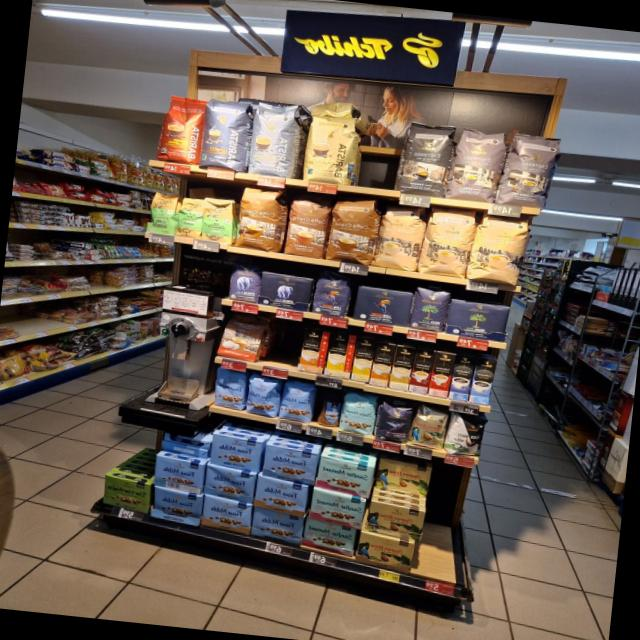AB Bohne: (226, 260, 261, 304)
AB Gemahlen: (258, 270, 314, 312), (196, 194, 237, 247)
Athiopien Bohne: (144, 191, 179, 236)
BM Bohne: (408, 285, 451, 334)
BM Gemahlen: (444, 297, 511, 342)
BW Bohne: (443, 412, 489, 460)
Barista CB: (299, 112, 357, 186)
Barista CC: (243, 102, 306, 178)
Barista Espresso: (196, 98, 251, 171)
Barista Kolumbien: (153, 94, 206, 165)
C Fino Bohne: (371, 401, 415, 444)
CC Mild: (464, 212, 533, 286), (415, 206, 475, 278), (371, 205, 427, 274)
CC Vollmundig: (215, 311, 267, 363)
CC Vollmundig 36 Pads: (323, 195, 380, 265), (233, 185, 288, 254), (280, 191, 331, 260)
Colombia BB Bohne: (407, 405, 450, 451)
Colombia BB Gemahlen: (365, 500, 427, 542), (355, 530, 414, 574), (374, 457, 431, 498)
Empty Shelf: (347, 115, 406, 189), (259, 318, 302, 370), (103, 441, 154, 483)
Espresso Aromatisch: (492, 130, 563, 208), (442, 125, 507, 204)
Espresso Kraftig: (393, 122, 457, 197)
FM Bohne: (276, 379, 318, 425), (244, 373, 282, 419), (213, 366, 247, 410)
FM Gemahlen: (261, 444, 316, 486), (254, 474, 307, 517), (200, 493, 251, 536), (152, 454, 204, 496), (250, 506, 304, 546), (202, 464, 255, 504), (151, 485, 201, 527), (209, 433, 261, 472)
FM Instant: (312, 391, 342, 428)
Herzhatfe Mundig: (101, 474, 150, 514)
LG Bohne: (309, 272, 354, 318)
LG Gemahlen: (350, 285, 414, 328)
SM Bohne: (338, 390, 377, 436)
SM Gemahlen: (314, 455, 372, 499), (309, 487, 366, 531), (302, 517, 357, 557)
Simo CCMild: (324, 331, 357, 379)
Simo CCVollmundig: (298, 328, 329, 374)
Simo CCVollmundig bigpack: (368, 342, 396, 387)
Simo Decaff: (350, 334, 376, 382), (388, 345, 415, 391)
Simo Es Brazil: (428, 351, 456, 398)
Simo Es Caramel: (408, 348, 434, 395)
Simo Es Kraft: (448, 353, 476, 401)
Simo Es Vanilla: (468, 357, 497, 406)
